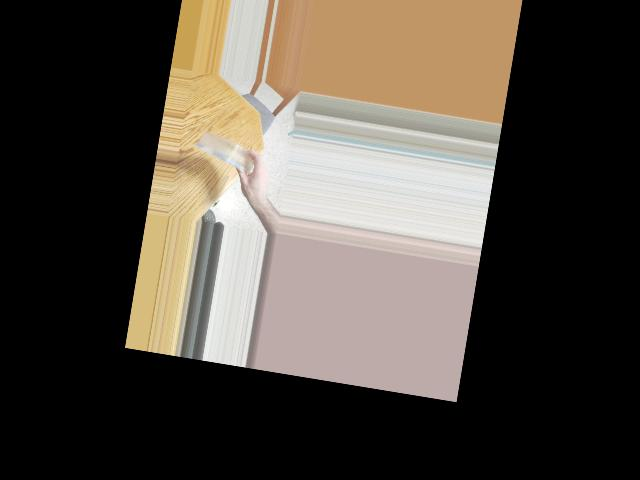cheese: (192, 134, 263, 169)
